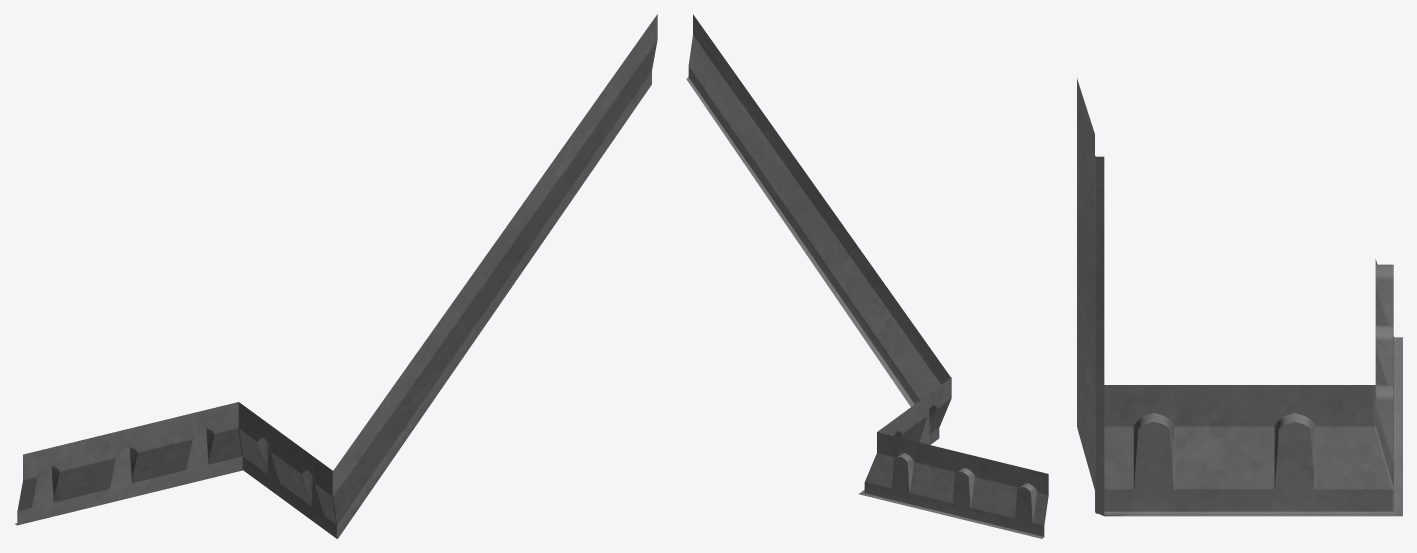
The model's file is TrimV3_ExteriorMainEntrance.fbx.
3 renders of one model, left to right at view 1: azimuth 30°, elevation 25°; view 2: azimuth 150°, elevation 25°; view 3: azimuth 270°, elevation 25°, orthographic. The views are drawn at different scales.
Parts seen in each view (by area): view 1: TrimV3_ExteriorMainEntrance; view 2: TrimV3_ExteriorMainEntrance; view 3: TrimV3_ExteriorMainEntrance.
Boxes of the visible parts, box(x1,y1,x2,y2) form: TrimV3_ExteriorMainEntrance: box(15, 14, 657, 538); TrimV3_ExteriorMainEntrance: box(686, 14, 1048, 538); TrimV3_ExteriorMainEntrance: box(1077, 78, 1402, 516).
Size of the model in its own units: 750 by 600 by 246.
Materials: 1 (1 with a texture image).
